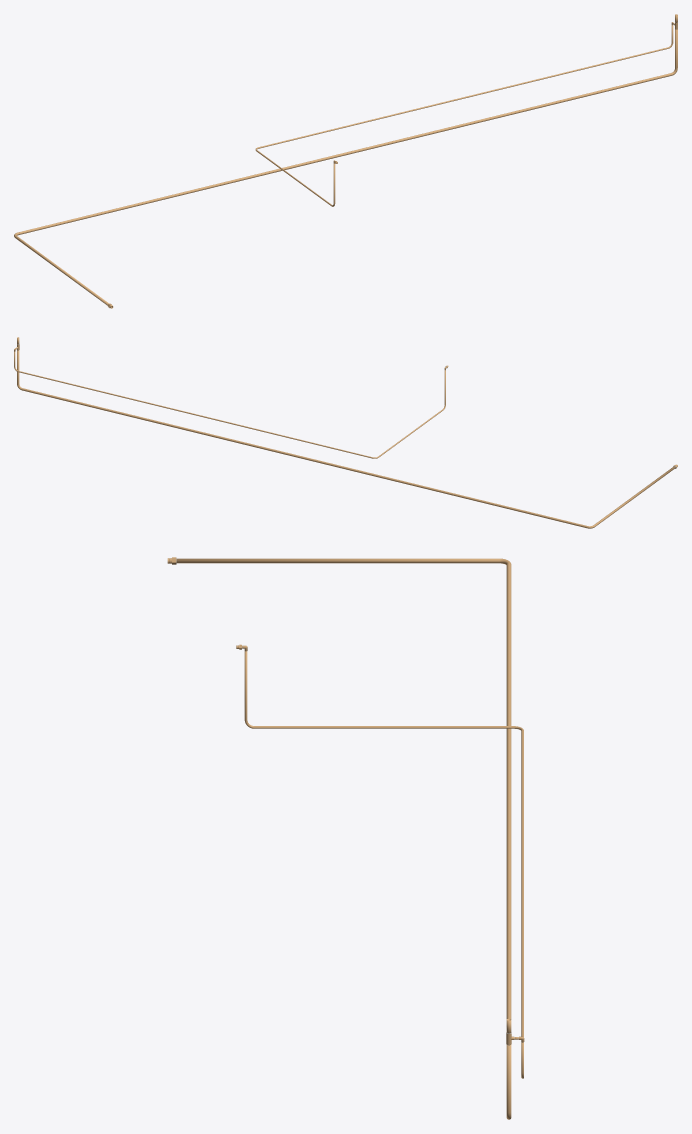
File: slab_pipes_supply__water-city_filter_and_plumbing-copper.glb
The picture shows the model from 3 angles, top to bottom: view 1: azimuth 30°, elevation 25°; view 2: azimuth 150°, elevation 25°; view 3: azimuth 270°, elevation 25°; orthographic projection. The views are drawn at different scales.
Visible parts, largest first — view 1: pipe_supply_house_entry__copper, pipe_supply_branch_hosebib_front__copper; view 2: pipe_supply_house_entry__copper, pipe_supply_branch_hosebib_front__copper; view 3: pipe_supply_house_entry__copper, pipe_supply_branch_hosebib_front__copper.
Boxes of the visible parts, x1,y1,x2,y2 form: pipe_supply_house_entry__copper: (14, 14, 677, 306); pipe_supply_branch_hosebib_front__copper: (255, 23, 674, 206); pipe_supply_house_entry__copper: (17, 337, 675, 528); pipe_supply_branch_hosebib_front__copper: (14, 347, 445, 458); pipe_supply_house_entry__copper: (176, 558, 511, 1119); pipe_supply_branch_hosebib_front__copper: (244, 651, 523, 1078).
Size of the model in its own units: 7.78 by 0.809 by 2.08.
